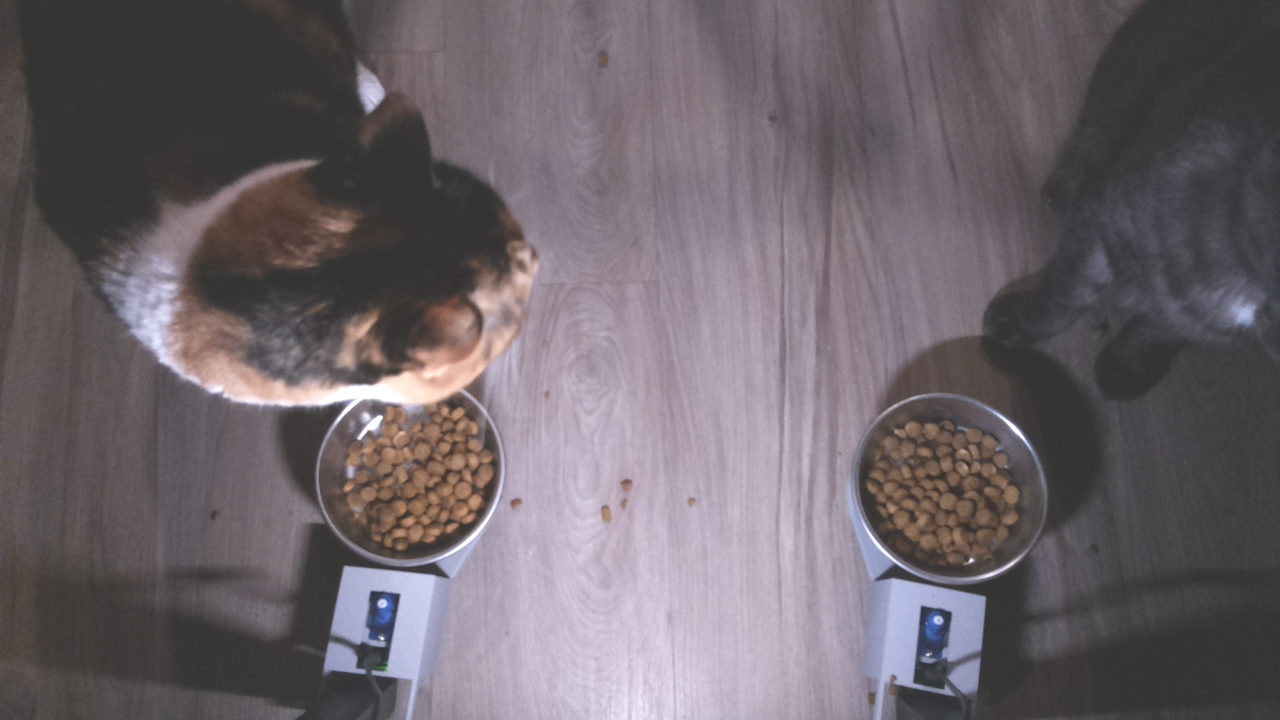bella: (234, 101, 551, 418)
open_bowl: (843, 390, 1055, 587), (309, 384, 505, 569)
